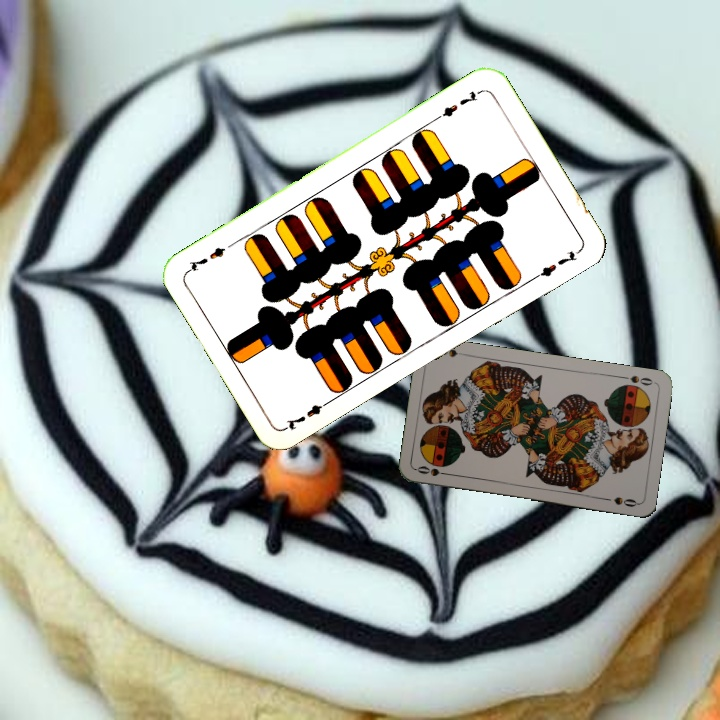E7: (281, 395, 335, 433), (431, 86, 485, 123)
SO: (413, 462, 453, 479), (617, 371, 657, 388)
